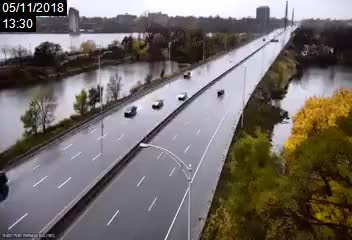personal_car: (124, 105, 138, 118), (151, 99, 164, 110), (176, 91, 188, 101), (215, 88, 226, 96), (183, 70, 192, 79)
